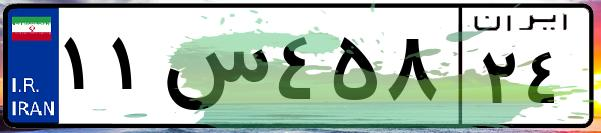1: (57, 26, 110, 100), (110, 28, 158, 98)
2: (475, 38, 525, 113)
4: (270, 28, 330, 110), (525, 38, 570, 115)
5: (330, 28, 385, 110)
8: (385, 28, 445, 110)
س: (158, 20, 270, 120)
